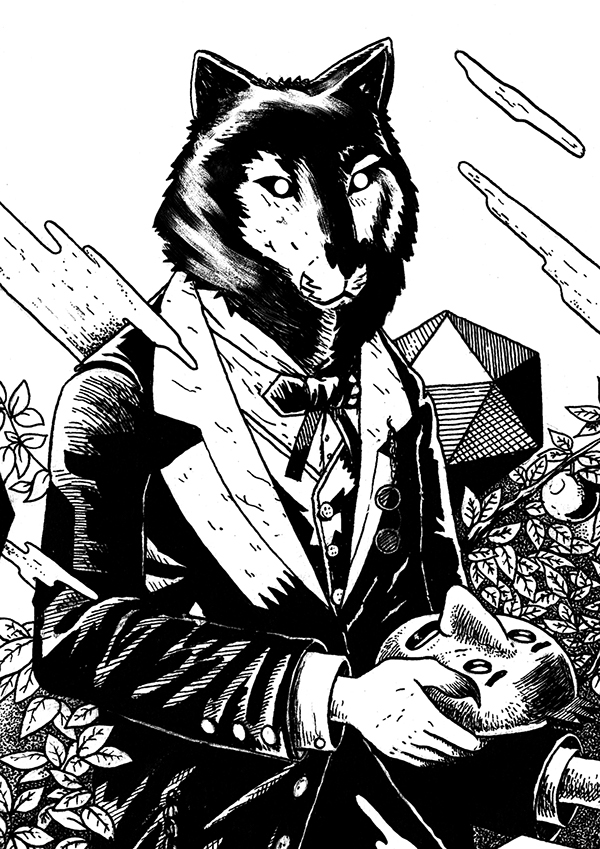dog: (34, 27, 580, 849)
